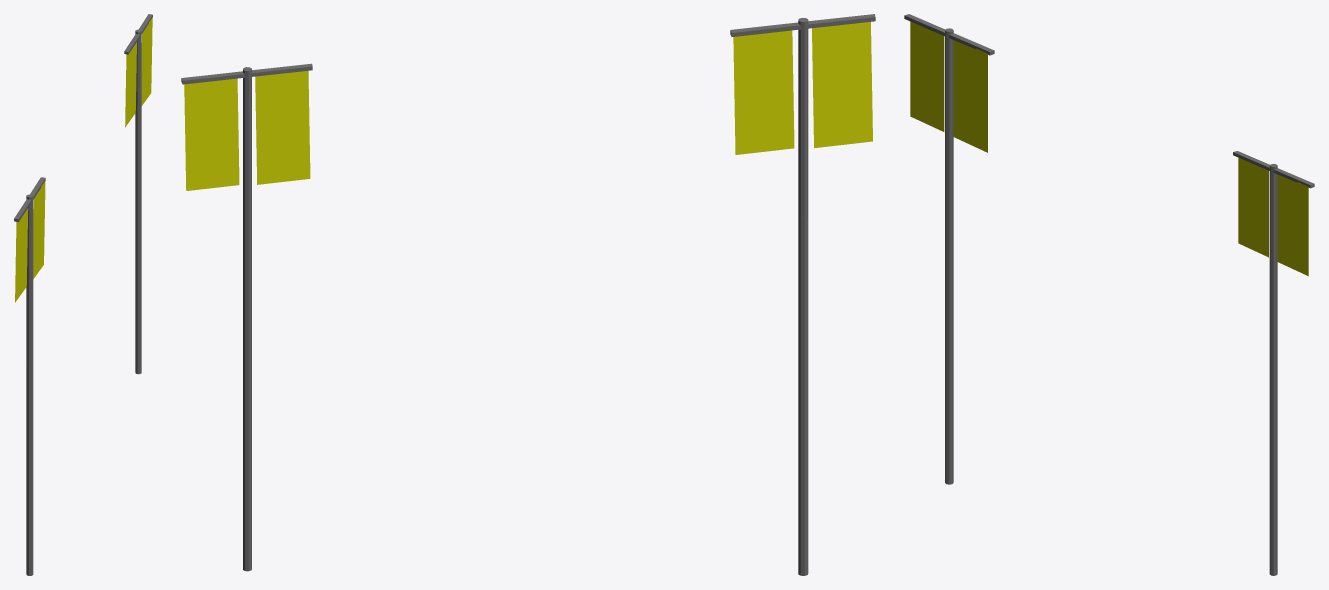
The model's file is banners.fbx.
3 views of the same model, side by side, from view 1: azimuth 30°, elevation 25°; view 2: azimuth 150°, elevation 25°; view 3: azimuth 270°, elevation 25° (orthographic). The views are drawn at different scales.
Visible parts, largest first — view 1: pCylinder9 (×2), pPlane2 (×2), pPlane1 (×2); view 2: pPlane1 (×2), pPlane2 (×2), pCylinder9 (×2); view 3: pCylinder9 (×2), pPlane2 (×2), pPlane1 (×2).
Part boxes in pixels (x1,y1,x2,y2): pCylinder9 (×2): [14, 14, 152, 575]; pPlane2 (×2): [33, 18, 152, 278]; pPlane1 (×2): [15, 42, 136, 302]; pPlane1 (×2): [255, 22, 872, 184]; pPlane2 (×2): [184, 30, 794, 190]; pCylinder9 (×2): [181, 14, 875, 575]; pCylinder9 (×2): [904, 14, 1314, 575]; pPlane2 (×2): [953, 40, 1308, 276]; pPlane1 (×2): [910, 21, 1268, 257].
Size of the model in its own units: 11.66 by 13.97 by 11.3.
